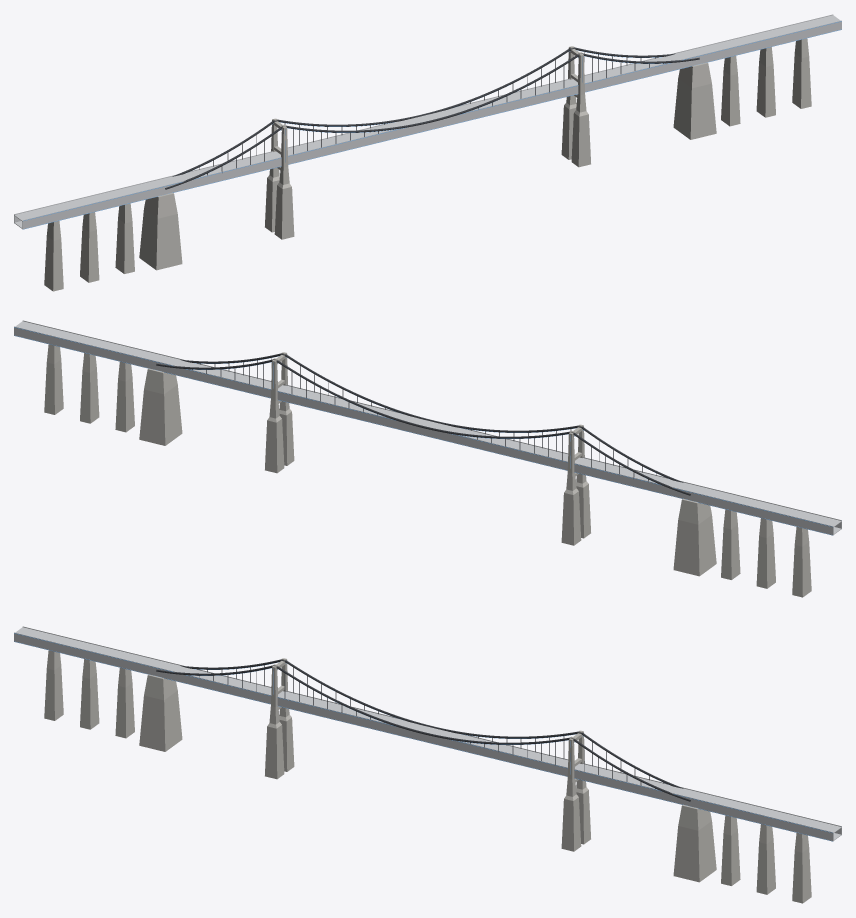
The model's file is IG Bridge.fbx.
3 views of the same model, one above another, from view 1: azimuth 30°, elevation 25°; view 2: azimuth 150°, elevation 25°; view 3: azimuth 330°, elevation 25° (orthographic).
Visible parts, largest first — view 1: GB_Piers, GB_Cables, GB_Tower_W, GB_Tower_E, GB_Deck_00, GB_LED, GB_Deck_05, GB_Deck_01, GB_Deck_04, GB_Deck_02, GB_Deck_06, GB_Deck_03; view 2: GB_Piers, GB_Cables, GB_Tower_W, GB_Tower_E, GB_Deck_00, GB_LED, GB_Deck_05, GB_Deck_01, GB_Deck_04, GB_Deck_02, GB_Deck_06, GB_Deck_03; view 3: GB_Piers, GB_Cables, GB_Tower_E, GB_Tower_W, GB_Deck_00, GB_LED, GB_Deck_01, GB_Deck_05, GB_Deck_06, GB_Deck_04, GB_Deck_02, GB_Deck_03.
Part boxes in pixels (x1,y1,x2,y2): GB_Piers: [44, 38, 811, 291]; GB_Cables: [165, 47, 699, 189]; GB_Tower_W: [265, 118, 294, 239]; GB_Tower_E: [561, 46, 590, 167]; GB_Deck_00: [14, 185, 141, 229]; GB_LED: [23, 21, 841, 229]; GB_Deck_05: [608, 40, 734, 84]; GB_Deck_01: [133, 156, 259, 200]; GB_Deck_04: [489, 69, 616, 113]; GB_Deck_02: [251, 127, 378, 171]; GB_Deck_06: [726, 14, 841, 55]; GB_Deck_03: [370, 98, 497, 142]; GB_Piers: [44, 344, 811, 597]; GB_Cables: [156, 353, 690, 495]; GB_Tower_W: [561, 424, 590, 545]; GB_Tower_E: [265, 352, 294, 473]; GB_Deck_00: [714, 491, 841, 535]; GB_LED: [14, 327, 832, 535]; GB_Deck_05: [121, 346, 247, 390]; GB_Deck_01: [596, 462, 722, 506]; GB_Deck_04: [239, 375, 366, 419]; GB_Deck_02: [477, 433, 604, 477]; GB_Deck_06: [14, 320, 129, 361]; GB_Deck_03: [358, 404, 485, 448]; GB_Piers: [44, 650, 811, 903]; GB_Cables: [156, 659, 690, 801]; GB_Tower_E: [561, 730, 590, 851]; GB_Tower_W: [265, 658, 294, 779]; GB_Deck_00: [14, 626, 141, 670]; GB_LED: [14, 633, 832, 841]; GB_Deck_01: [133, 655, 259, 699]; GB_Deck_05: [607, 771, 734, 814]; GB_Deck_06: [726, 800, 841, 841]; GB_Deck_04: [489, 744, 616, 785]; GB_Deck_02: [251, 684, 378, 727]; GB_Deck_03: [370, 713, 496, 756].
Bounding box in the file's own units: 6900 × 883 × 250.
